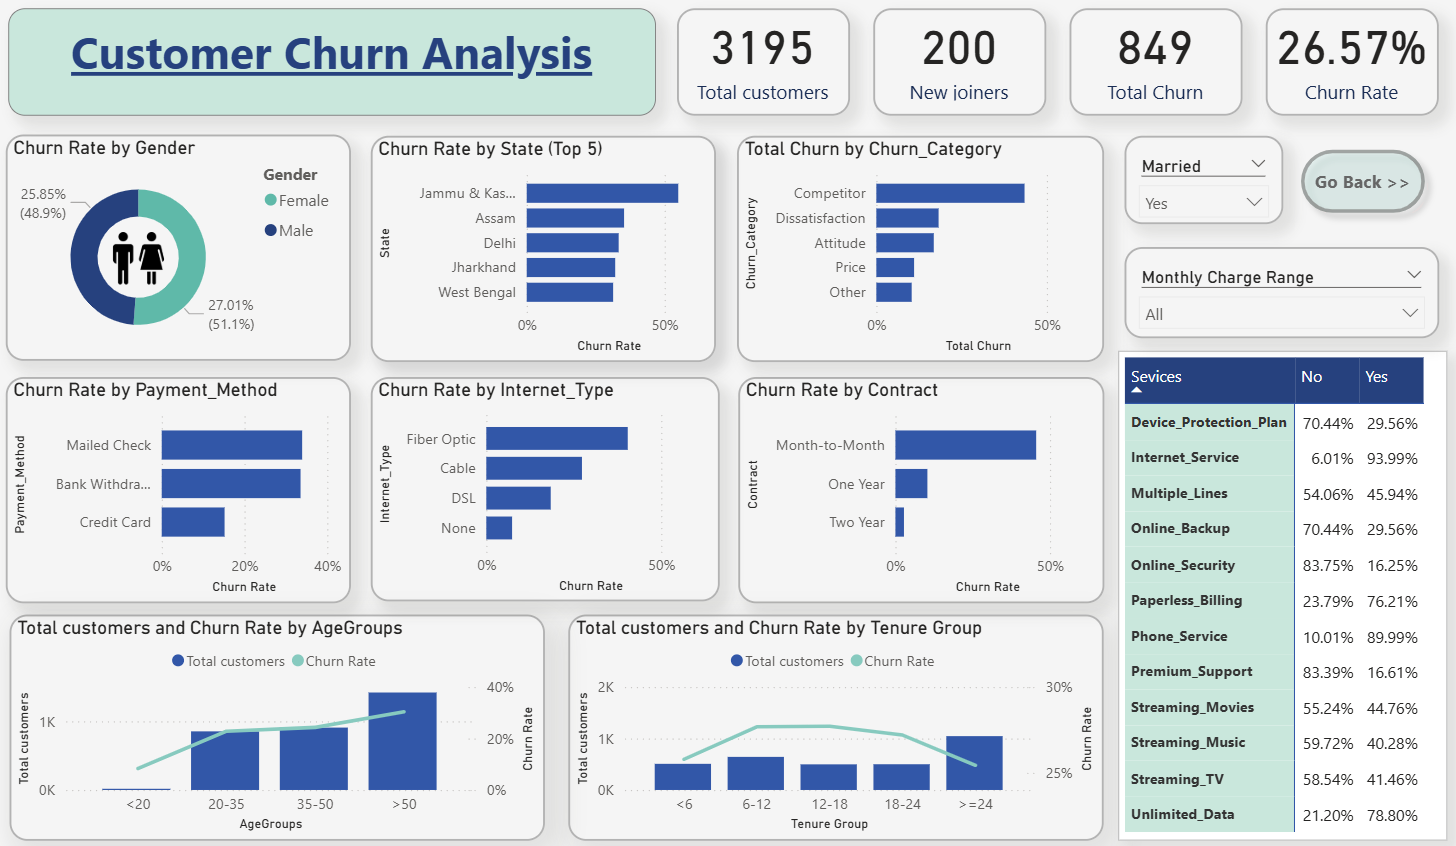

This screenshot's page, from the dashboard's own definition file:
{"tool":"powerbi","page":{"name":"Churn Summary","canvas":[1280,720],"ordinal":0},"visuals":[{"type":"image","box":[125.6,195.6,55.6,56.7],"z":0},{"type":"card","fields":{"Values":["Table_of_Measures.Total customers"]},"box":[605.7,13.3,145.6,90],"z":1000},{"type":"card","fields":{"Values":["Table_of_Measures.New joiners"]},"box":[770.9,13.3,145.6,90],"z":2000},{"type":"card","fields":{"Values":["Table_of_Measures.Total Churn"]},"box":[936,13.3,145.6,90],"z":3000},{"type":"card","fields":{"Values":["Table_of_Measures.Churn Rate"]},"box":[1101.2,13.3,145.6,90],"z":4000},{"type":"donutChart","fields":{"Category":["db main_table.Gender"],"Y":["Table_of_Measures.Churn Rate"]},"box":[41.2,120,290,190],"z":5000},{"type":"lineStackedColumnComboChart","fields":{"Category":["ref_agegroup.AgeGroups"],"Y":["Table_of_Measures.Total customers"],"Y2":["Table_of_Measures.Churn Rate"]},"box":[44.6,523.3,450,190],"z":6000},{"type":"clusteredBarChart","fields":{"Category":["db main_table.Payment_Method"],"Y":["Table_of_Measures.Churn Rate"]},"box":[41.2,323.3,290,190],"z":7000},{"type":"clusteredBarChart","fields":{"Category":["db main_table.Contract"],"Y":["Table_of_Measures.Churn Rate"]},"box":[656.8,323.3,307.8,190],"z":8000},{"type":"lineStackedColumnComboChart","fields":{"Category":["ref_tenure_grp.Tenure Group"],"Y":["Table_of_Measures.Total customers"],"Y2":["Table_of_Measures.Churn Rate"]},"box":[514.6,523.3,450,190],"z":9000},{"type":"clusteredBarChart","title":"Churn Rate by State (Top 5)","fields":{"Category":["db main_table.State"],"Y":["Table_of_Measures.Churn Rate"]},"box":[347.9,121.1,290,190],"z":10000},{"type":"clusteredBarChart","fields":{"Category":["db main_table.Churn_Category"],"Y":["Table_of_Measures.Total Churn"]},"box":[655.7,121.1,308.9,190],"z":11000},{"type":"clusteredBarChart","fields":{"Category":["db main_table.Internet_Type"],"Y":["Table_of_Measures.Churn Rate"]},"box":[347.9,323.3,293.3,188.9],"z":12000},{"type":"pivotTable","fields":{"Rows":["ref_services.Sevices"],"Columns":["ref_services.Status"],"Values":["Sum(ref_services.ChurnStatus)"]},"box":[976.8,301.8,276.5,412.2],"z":13000},{"type":"slicer","fields":{"Values":["db main_table.Monthly Charge Status"]},"box":[982.2,214.4,264.4,76.7],"z":14000},{"type":"slicer","fields":{"Values":["db main_table.Married"]},"box":[982.2,121.1,133.3,74.4],"z":15000},{"type":"actionButton","box":[1118.9,121.1,127.8,76.7],"z":16000},{"type":"textbox","box":[43.3,13.3,544.4,90],"z":17000}]}

Visuals, with their boxes on the page's 1280x720 design canvas (x1, y1, x2, y2). These are canvas units, not pixel positions in the 1456x846 screenshot, which may show the page scaled, cropped or inside an application window:
image: <bbox>126, 196, 181, 252</bbox>
card - Table_of_Measures.Total customers: <bbox>606, 13, 751, 103</bbox>
card - Table_of_Measures.New joiners: <bbox>771, 13, 916, 103</bbox>
card - Table_of_Measures.Total Churn: <bbox>936, 13, 1082, 103</bbox>
card - Table_of_Measures.Churn Rate: <bbox>1101, 13, 1247, 103</bbox>
donutChart - db main_table.Gender x Table_of_Measures.Churn Rate: <bbox>41, 120, 331, 310</bbox>
lineStackedColumnComboChart - ref_agegroup.AgeGroups x Table_of_Measures.Total customers: <bbox>45, 523, 495, 713</bbox>
clusteredBarChart - db main_table.Payment_Method x Table_of_Measures.Churn Rate: <bbox>41, 323, 331, 513</bbox>
clusteredBarChart - db main_table.Contract x Table_of_Measures.Churn Rate: <bbox>657, 323, 965, 513</bbox>
lineStackedColumnComboChart - ref_tenure_grp.Tenure Group x Table_of_Measures.Total customers: <bbox>515, 523, 965, 713</bbox>
"Churn Rate by State (Top 5)" clusteredBarChart: <bbox>348, 121, 638, 311</bbox>
clusteredBarChart - db main_table.Churn_Category x Table_of_Measures.Total Churn: <bbox>656, 121, 965, 311</bbox>
clusteredBarChart - db main_table.Internet_Type x Table_of_Measures.Churn Rate: <bbox>348, 323, 641, 512</bbox>
pivotTable - ref_services.Sevices x ref_services.Status: <bbox>977, 302, 1253, 714</bbox>
slicer - db main_table.Monthly Charge Status: <bbox>982, 214, 1247, 291</bbox>
slicer - db main_table.Married: <bbox>982, 121, 1116, 196</bbox>
actionButton: <bbox>1119, 121, 1247, 198</bbox>
textbox: <bbox>43, 13, 588, 103</bbox>
